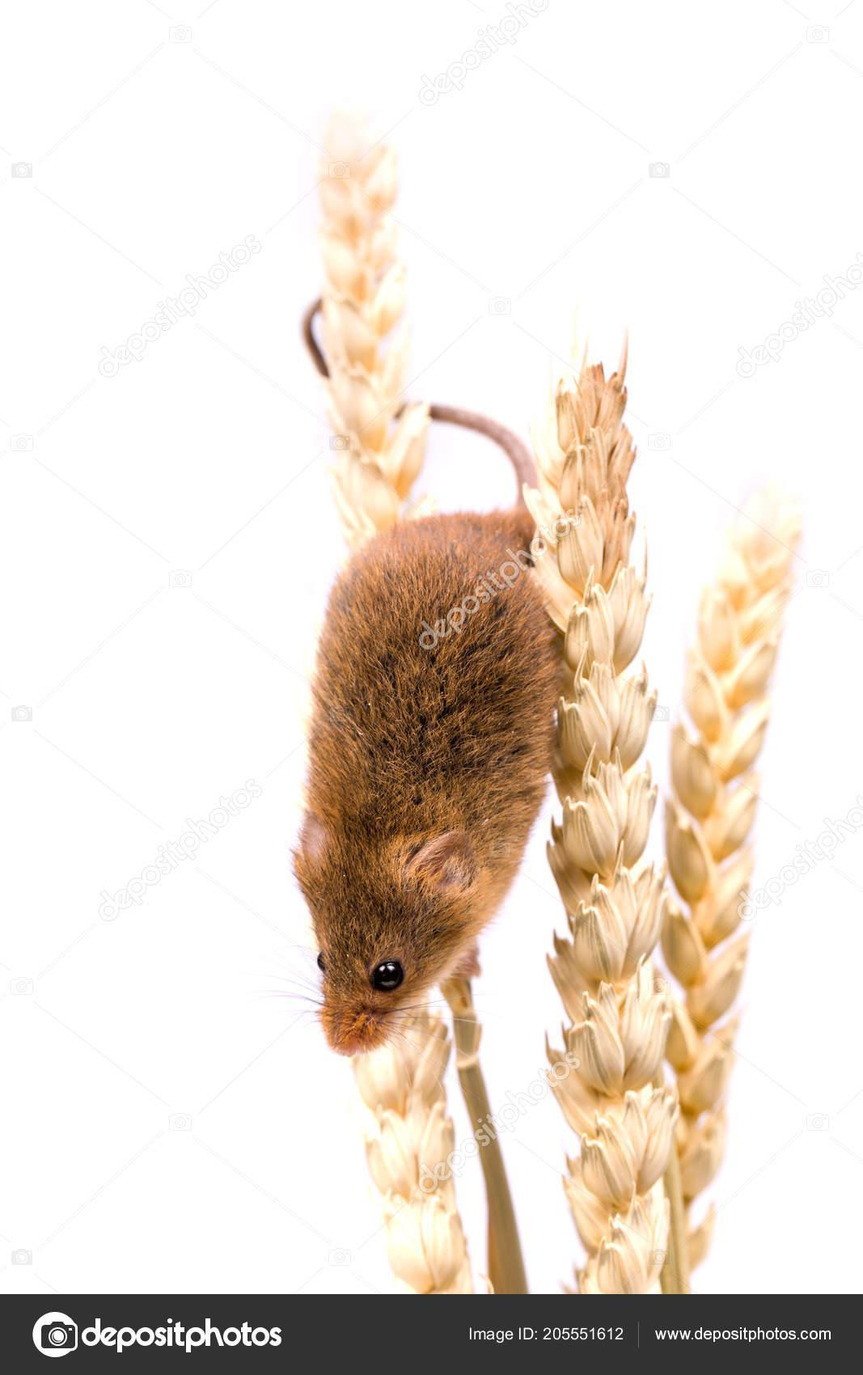rat: (287, 286, 566, 1062)
